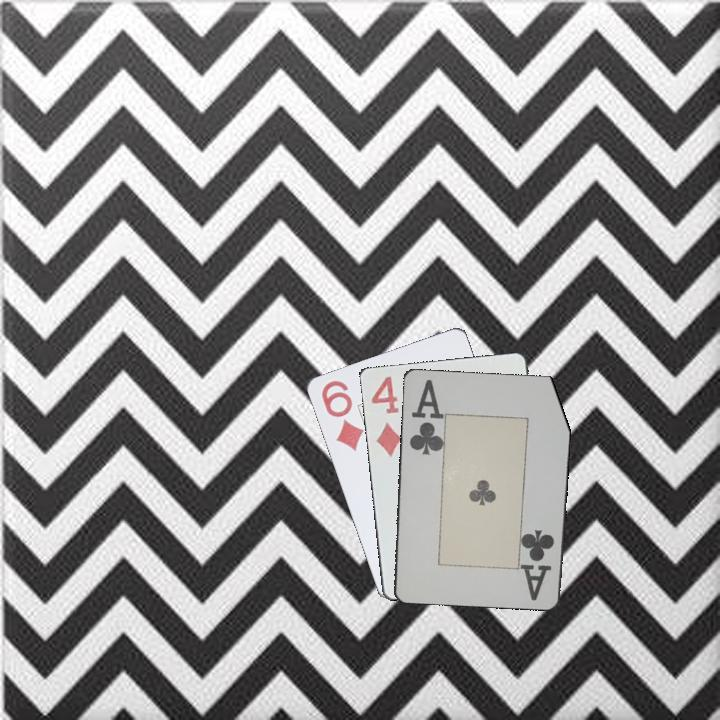4d: (367, 372, 405, 460)
6d: (318, 376, 366, 454)
Ac: (405, 375, 444, 458), (520, 526, 557, 603)
